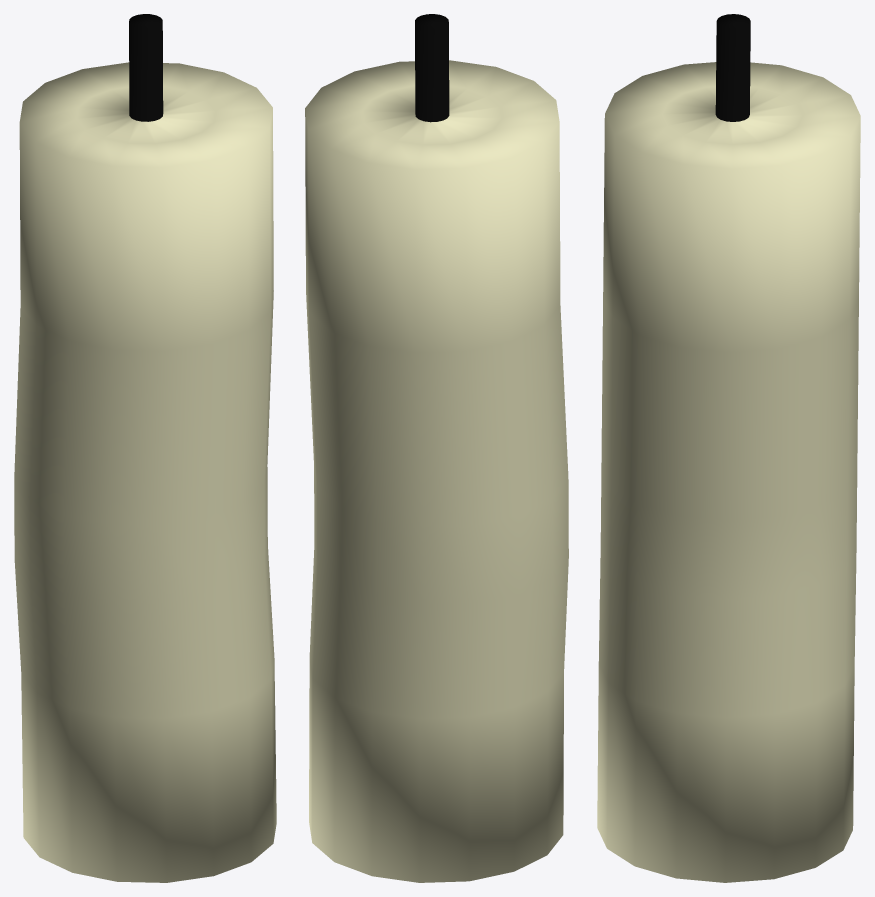
File: f_candle_1.fbx
3 views of the same model, side by side, from view 1: azimuth 30°, elevation 25°; view 2: azimuth 150°, elevation 25°; view 3: azimuth 270°, elevation 25° (orthographic).
Visible parts, largest first — view 1: Circle.004; view 2: Circle.004; view 3: Circle.004.
Boxes of the visible parts, box(x1,y1,x2,y2) form: Circle.004: box(14, 14, 276, 882); Circle.004: box(305, 14, 568, 882); Circle.004: box(597, 14, 860, 882).
Bounding box in the file's own units: 30.32 × 102 × 30.24.
